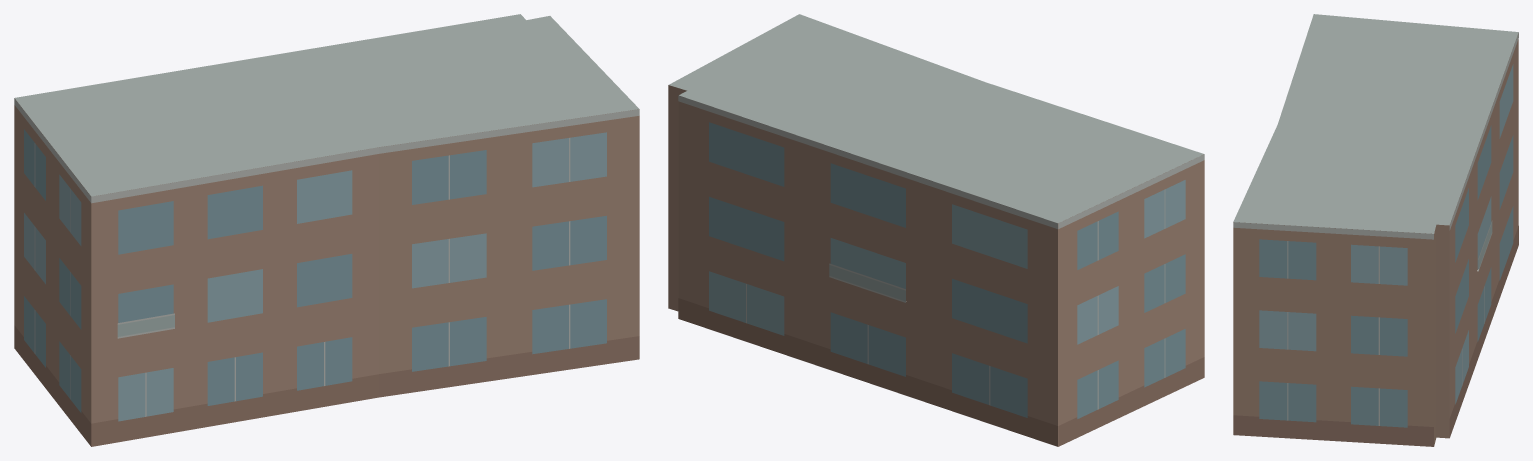
Rendered from survey-upis-32658971.glb.
The picture shows the model from 3 angles, left to right: view 1: azimuth 30°, elevation 25°; view 2: azimuth 150°, elevation 25°; view 3: azimuth 270°, elevation 25°; orthographic projection. The views are drawn at different scales.
Parts seen in each view (by area): view 1: survey-upis-32658971.tmp; view 2: survey-upis-32658971.tmp; view 3: survey-upis-32658971.tmp.
Boxes of the visible parts, x1,y1,x2,y2 form: survey-upis-32658971.tmp: [14, 14, 639, 446]; survey-upis-32658971.tmp: [668, 14, 1204, 446]; survey-upis-32658971.tmp: [1233, 14, 1518, 446].
Size of the model in its own units: 20.27 by 9.15 by 11.13.
